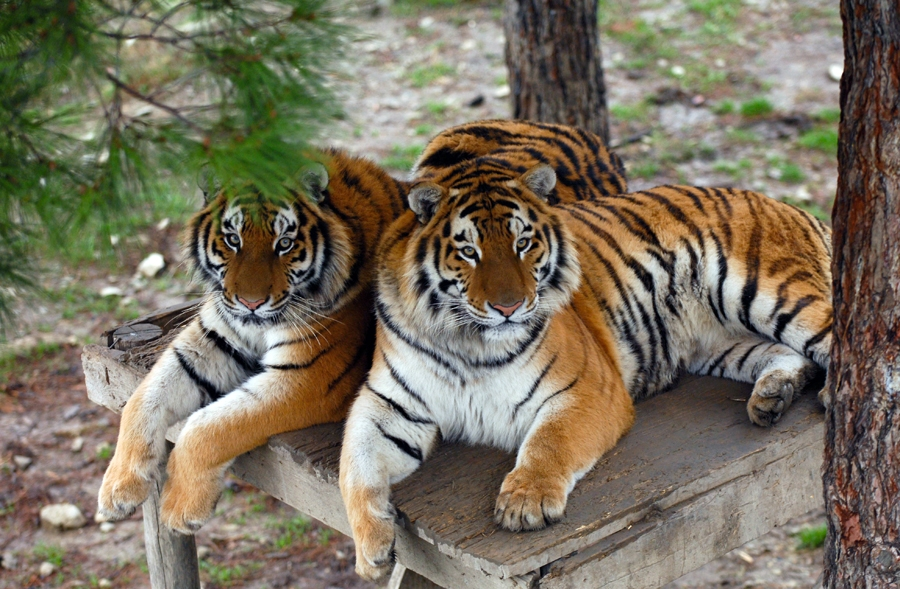Tiger: (373, 169, 855, 572), (106, 129, 376, 534)
